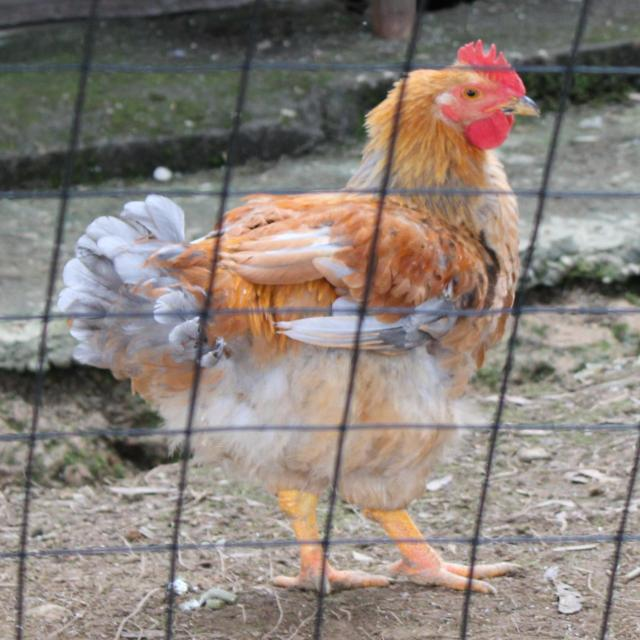hen: (45, 23, 541, 600)
